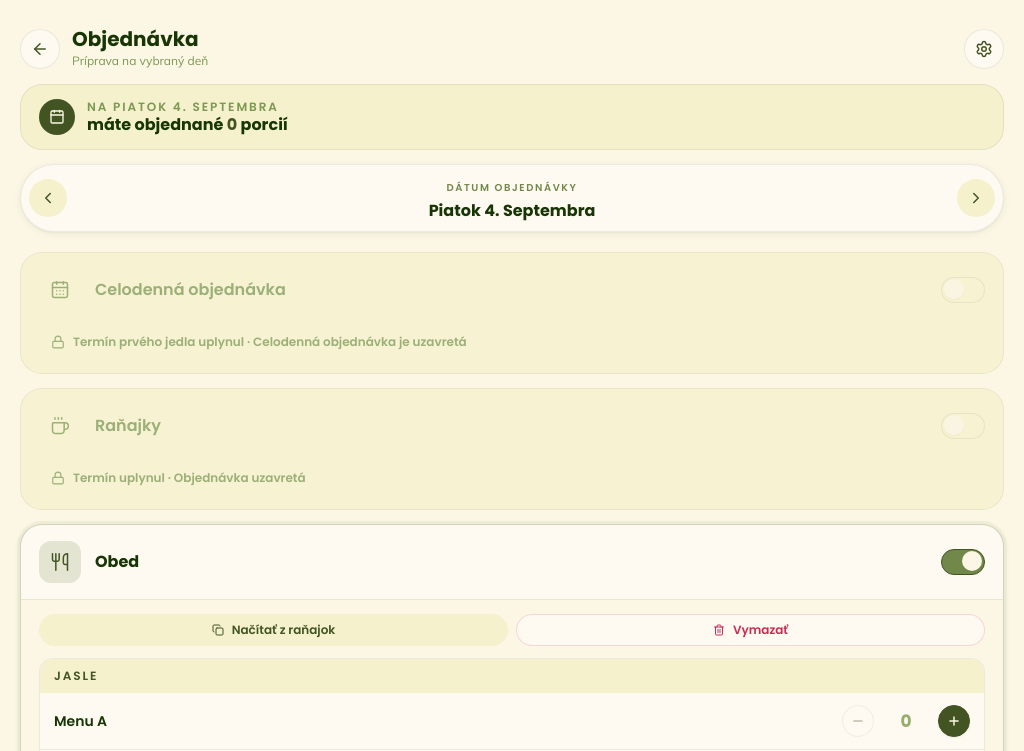
Test: OrderPage Logic & Triggers › Celodenná: is closed when the first visible meal deadline has passed
Expected: the text "Termín prvého jedla uplynul · Celodenná objednávka je uzavretá" is shown, [39,327,479,357]
Click the switch named "Celodenná objednávka" at (963, 290), box [941,277,985,303]
(page scrolled)
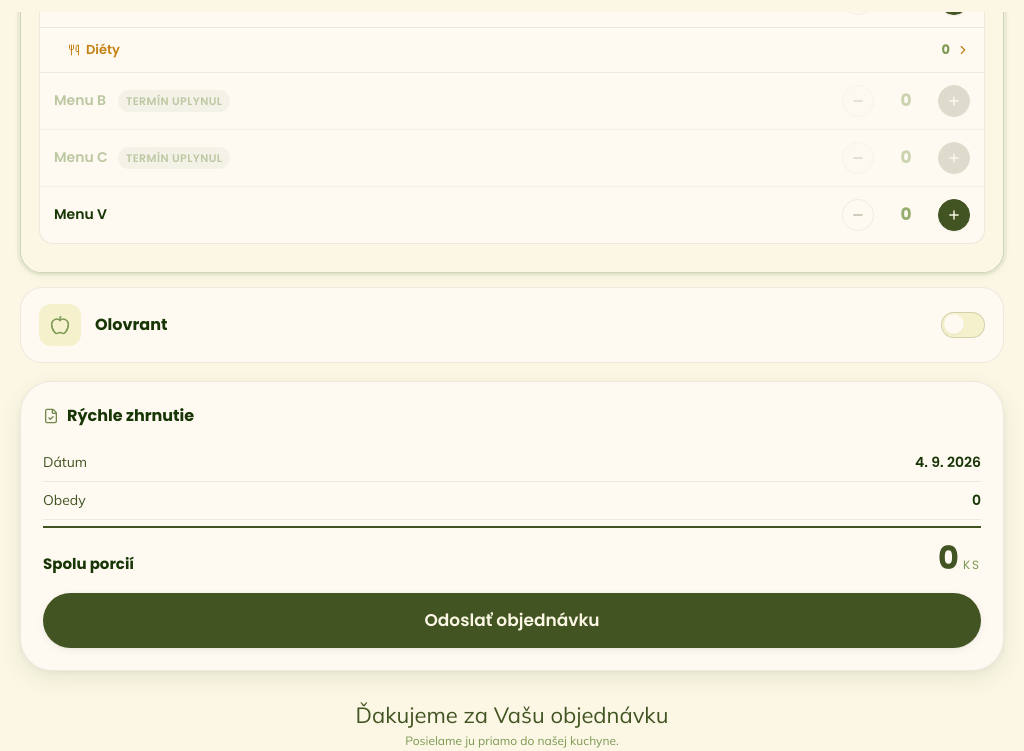
Expected: the button "Odoslať objednávku" is enabled, [43,593,981,648]
